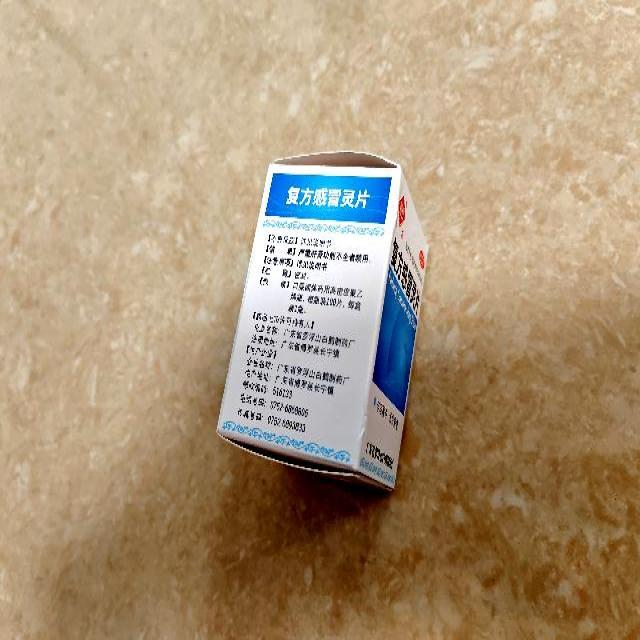box: (217, 149, 429, 491)
